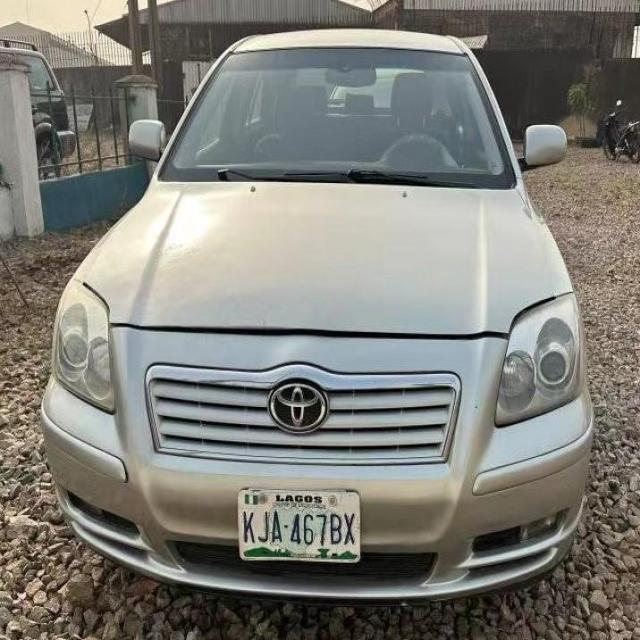Nigerian License Plate - vdataset benjamin-daria: (236, 486, 365, 570)
